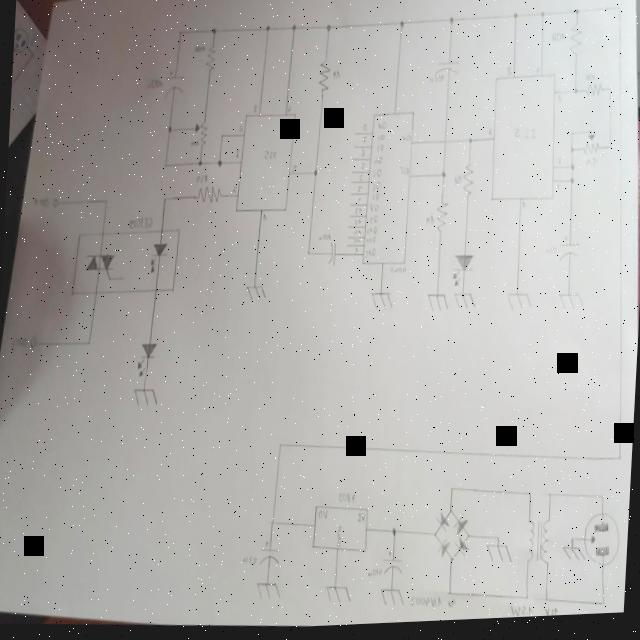capacitor: (558, 239, 581, 269), (165, 71, 186, 101), (382, 552, 405, 579), (260, 541, 282, 568), (434, 63, 462, 81), (326, 243, 338, 271)
crossover: (442, 141, 448, 150)
diode: (452, 256, 476, 293), (137, 342, 159, 380), (453, 516, 469, 540), (436, 515, 452, 537), (454, 541, 470, 562), (437, 541, 452, 561)
ground: (254, 581, 282, 605), (132, 386, 161, 409), (486, 547, 514, 570), (506, 294, 534, 316), (325, 586, 353, 608), (558, 295, 586, 316), (560, 549, 588, 568), (452, 295, 478, 315), (426, 295, 450, 316), (381, 589, 406, 609), (370, 293, 392, 315), (245, 284, 268, 304)
junction: (391, 528, 398, 540), (268, 521, 277, 529), (449, 20, 456, 28), (468, 140, 474, 149), (212, 28, 218, 37), (400, 23, 406, 32), (540, 15, 546, 24), (442, 174, 448, 183), (570, 150, 576, 159), (570, 167, 576, 176), (218, 160, 224, 168), (292, 25, 298, 33), (266, 27, 272, 35), (514, 16, 520, 24), (450, 488, 456, 496), (574, 12, 580, 20), (574, 92, 580, 100), (608, 90, 614, 98), (448, 593, 454, 601), (618, 459, 624, 467), (544, 601, 550, 609), (524, 598, 530, 606), (616, 10, 622, 18), (327, 26, 332, 35), (601, 605, 606, 614), (528, 494, 533, 503), (570, 182, 576, 189), (198, 161, 204, 168), (432, 535, 438, 542), (548, 496, 553, 504), (168, 127, 173, 135), (307, 252, 312, 260), (279, 443, 284, 451), (601, 498, 606, 506), (104, 198, 109, 206), (314, 170, 318, 179), (588, 133, 594, 139), (448, 560, 454, 566), (466, 536, 472, 542), (179, 30, 184, 37), (88, 339, 92, 347), (570, 541, 575, 547), (164, 197, 168, 204), (571, 135, 575, 142), (610, 148, 614, 155), (496, 539, 500, 546), (221, 133, 225, 139), (164, 164, 168, 170), (449, 512, 453, 517)
resistor: (196, 186, 225, 206), (462, 165, 477, 201), (318, 61, 332, 99), (436, 201, 450, 238), (568, 29, 584, 61), (582, 138, 602, 162), (194, 120, 209, 150), (205, 46, 218, 76), (584, 87, 606, 102)
terminal: (30, 335, 39, 349), (51, 197, 60, 208)
text: (410, 597, 444, 613), (128, 215, 154, 232), (513, 130, 540, 146), (509, 607, 534, 622), (10, 334, 30, 350), (338, 493, 358, 508), (146, 78, 166, 91), (33, 196, 52, 209), (264, 150, 280, 164), (241, 556, 259, 568), (429, 77, 446, 89), (550, 36, 567, 48), (585, 161, 600, 174), (544, 609, 560, 621), (336, 526, 344, 550), (318, 234, 333, 246), (368, 570, 383, 582), (452, 177, 464, 191), (192, 45, 206, 57), (366, 249, 378, 262), (544, 249, 558, 260), (391, 268, 406, 278), (426, 216, 436, 231), (318, 511, 329, 524), (197, 174, 210, 185), (369, 206, 381, 217), (372, 183, 382, 196), (357, 514, 367, 527), (584, 79, 598, 88), (378, 123, 388, 135), (447, 600, 457, 612), (332, 72, 342, 84), (400, 169, 410, 180), (370, 217, 380, 228), (368, 228, 378, 239), (190, 140, 200, 151), (373, 171, 383, 181), (402, 137, 412, 146), (376, 137, 386, 146), (367, 239, 377, 248), (354, 209, 364, 218), (506, 70, 514, 81), (234, 151, 242, 161), (376, 147, 385, 155), (374, 160, 383, 168), (487, 130, 494, 140), (238, 125, 245, 135), (252, 106, 259, 116), (372, 196, 380, 204), (354, 221, 362, 229), (354, 231, 362, 239), (232, 186, 238, 196), (362, 138, 368, 147), (357, 187, 363, 196), (522, 205, 528, 214), (556, 187, 562, 196), (262, 215, 268, 224), (292, 166, 298, 175), (288, 106, 294, 115), (361, 151, 366, 161), (354, 241, 362, 247), (535, 71, 541, 79), (364, 126, 369, 135), (354, 250, 360, 257), (359, 176, 364, 184), (558, 161, 562, 170), (362, 165, 366, 173), (358, 198, 362, 206), (558, 99, 562, 107)
transformer: (523, 520, 553, 570)
